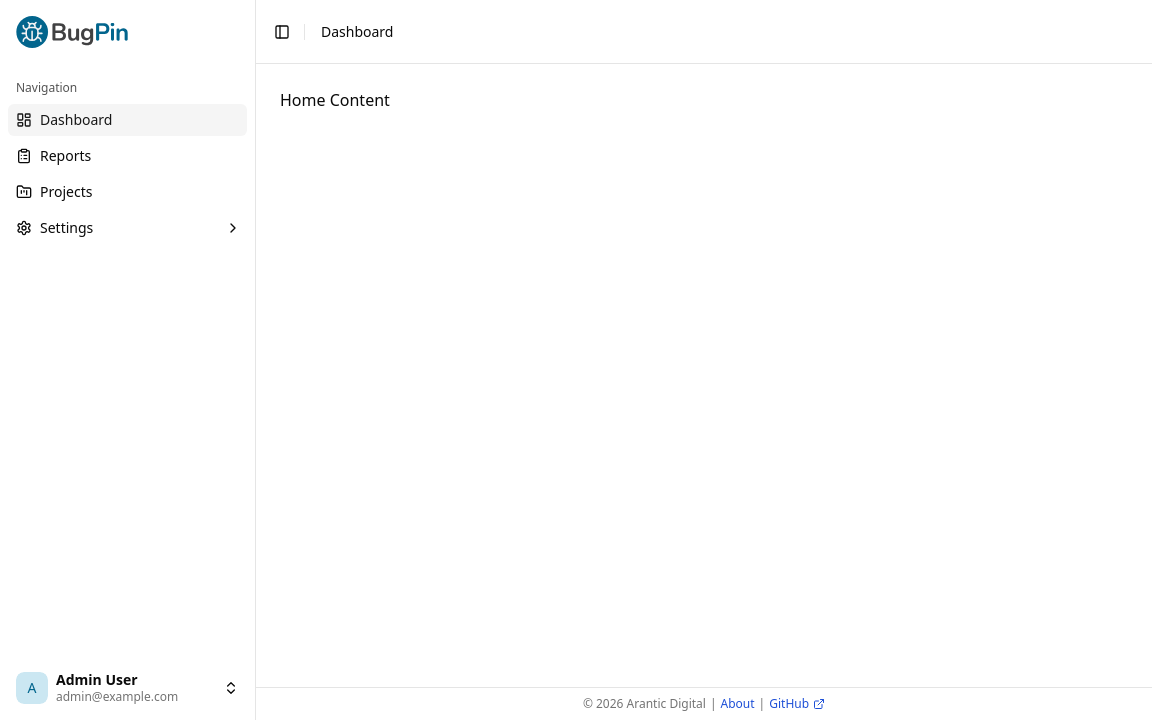
Scenario: Layout › shows the page title and renders footer dialog
Expected: the heading "Dashboard" is shown, [321,22,394,42]
Expected: the text "Home Content" is shown, [280,89,390,111]
Click the link "About": x=738, y=704 [720,696,755,712]
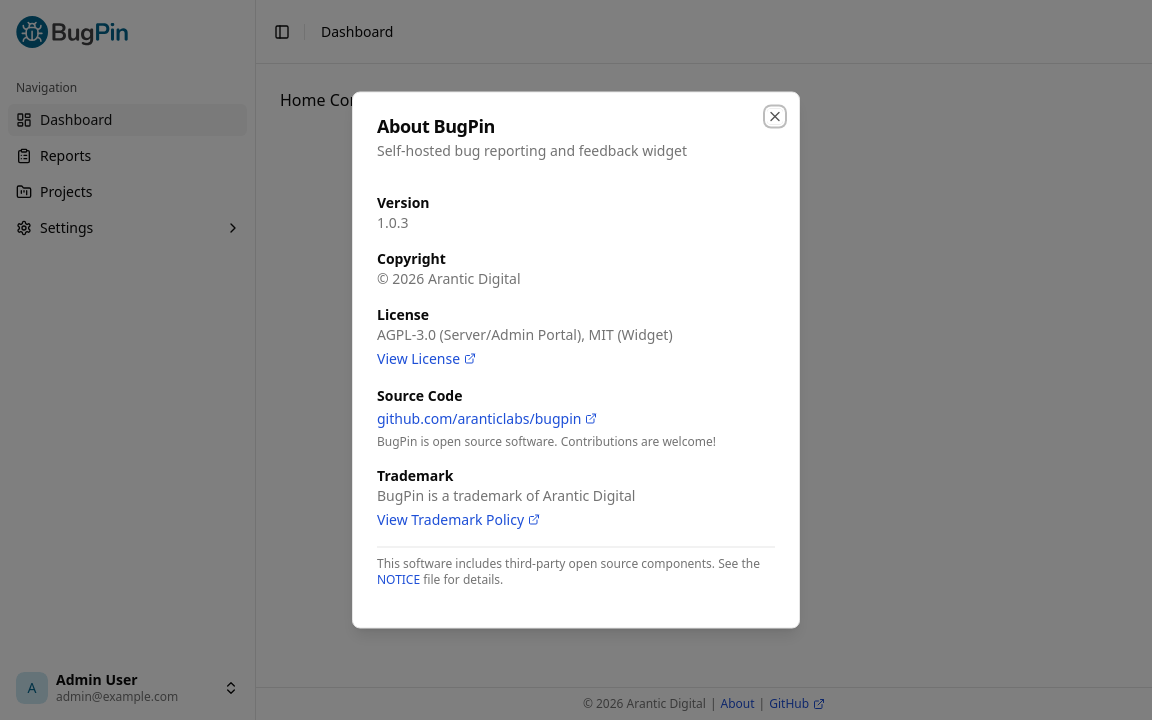
Now the heading "About BugPin" is shown, box [377,114,495,138]
